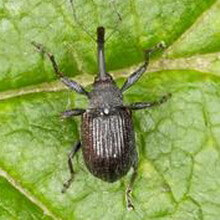dolgonosik: (31, 30, 171, 212)
